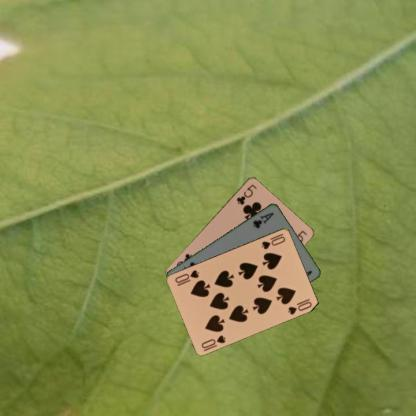10s: (259, 231, 286, 250), (199, 332, 227, 350)
5c: (234, 181, 258, 206)
Ac: (250, 209, 275, 230)
